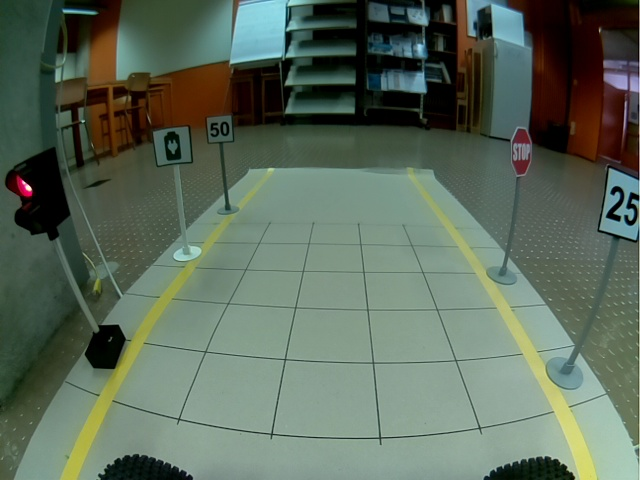battery: (151, 123, 193, 168)
speed25: (598, 164, 640, 244)
speed50: (205, 114, 234, 145)
stop: (510, 126, 532, 177)
trafficLightRed: (4, 147, 71, 236)
